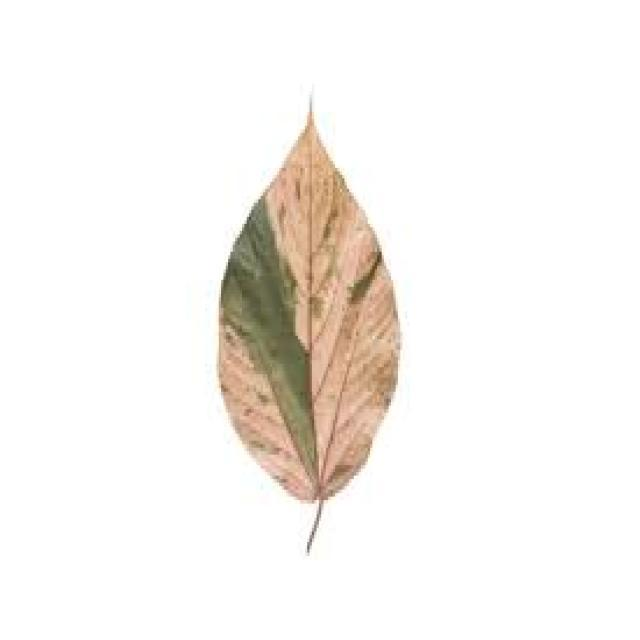leaf: (215, 88, 401, 554)
